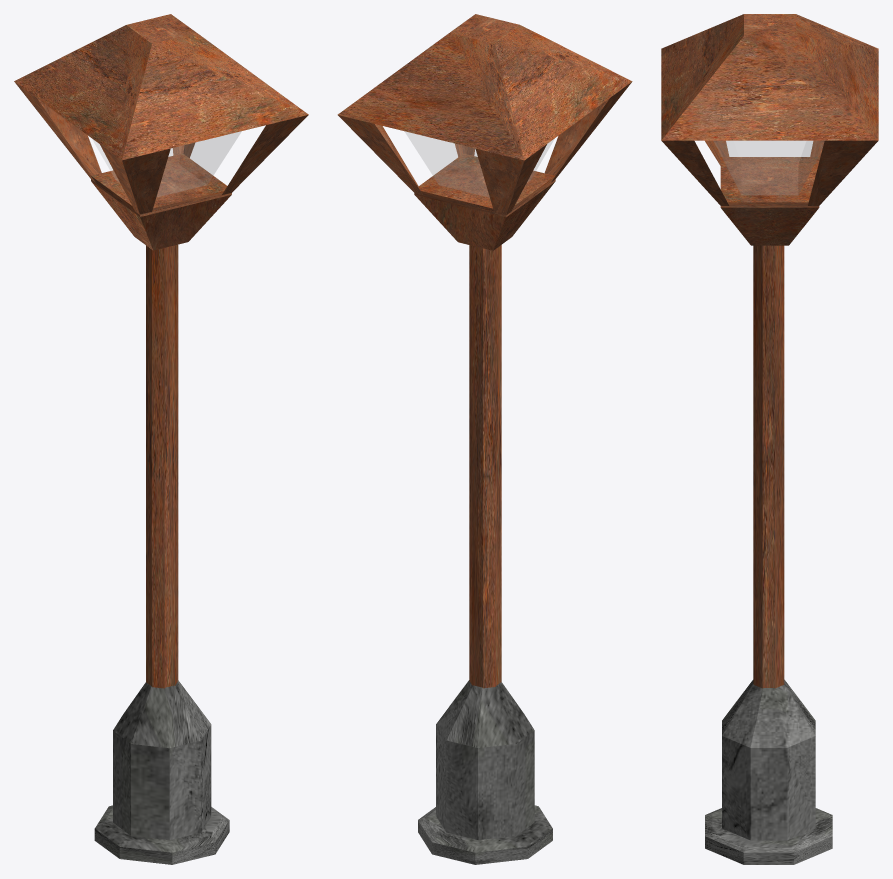
The model's file is LampV4.fbx.
The picture shows the model from 3 angles, left to right: view 1: azimuth 30°, elevation 25°; view 2: azimuth 150°, elevation 25°; view 3: azimuth 270°, elevation 25°; orthographic projection.
Visible parts, largest first — view 1: LampbaseHope; view 2: LampbaseHope; view 3: LampbaseHope.
Part boxes in pixels (x1,y1,x2,y2): LampbaseHope: (14, 14, 308, 864); LampbaseHope: (337, 14, 632, 864); LampbaseHope: (661, 14, 878, 864).
Bounding box in the file's own units: 212 × 874 × 212.
3 materials, 2 textured.
